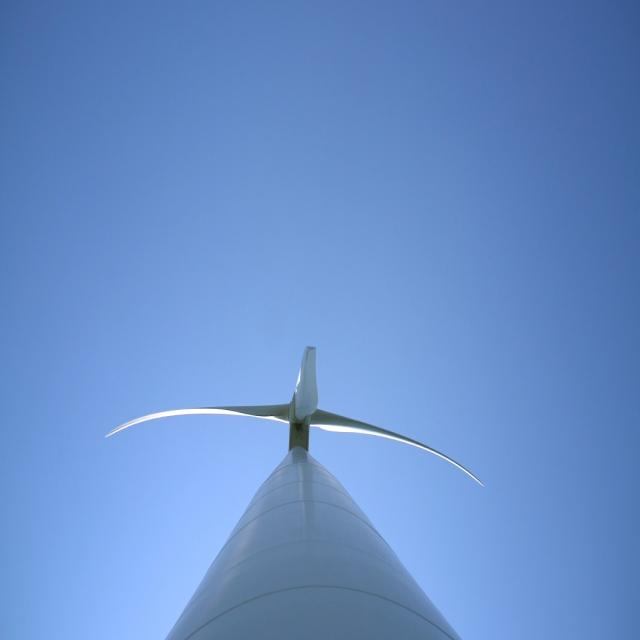blade 1: (87, 380, 280, 450)
blade 2: (292, 341, 350, 405)
blade 3: (370, 409, 493, 493)
